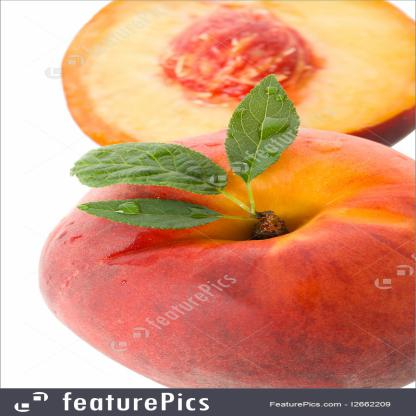peach leaf: (56, 140, 234, 197), (228, 71, 302, 187), (73, 192, 221, 231)
